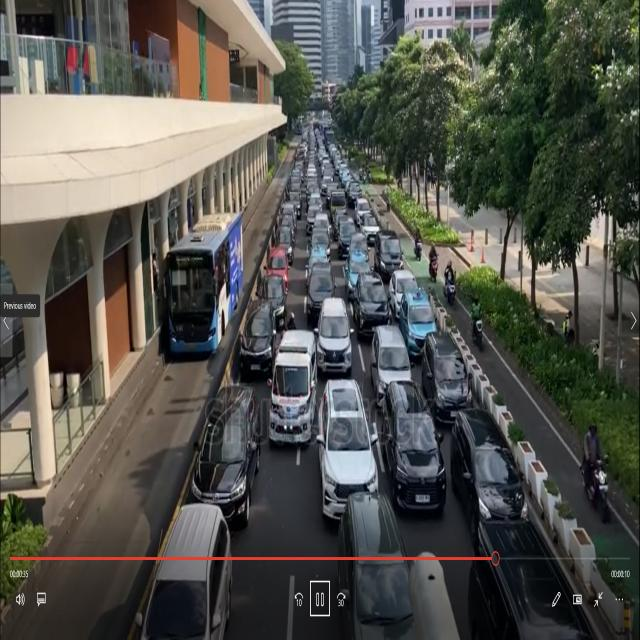Ambulance: (274, 325, 312, 454)
